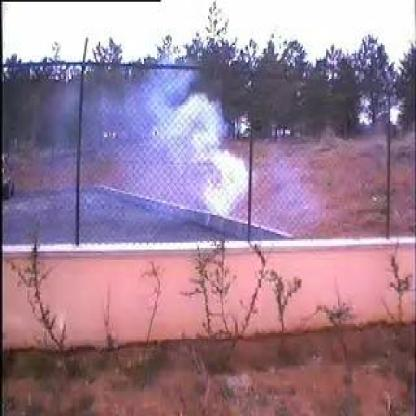-: (84, 63, 249, 242)
